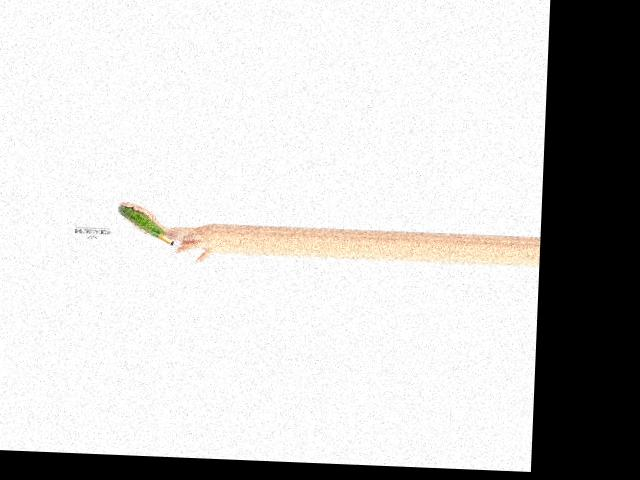cucumber: (117, 205, 166, 238)
